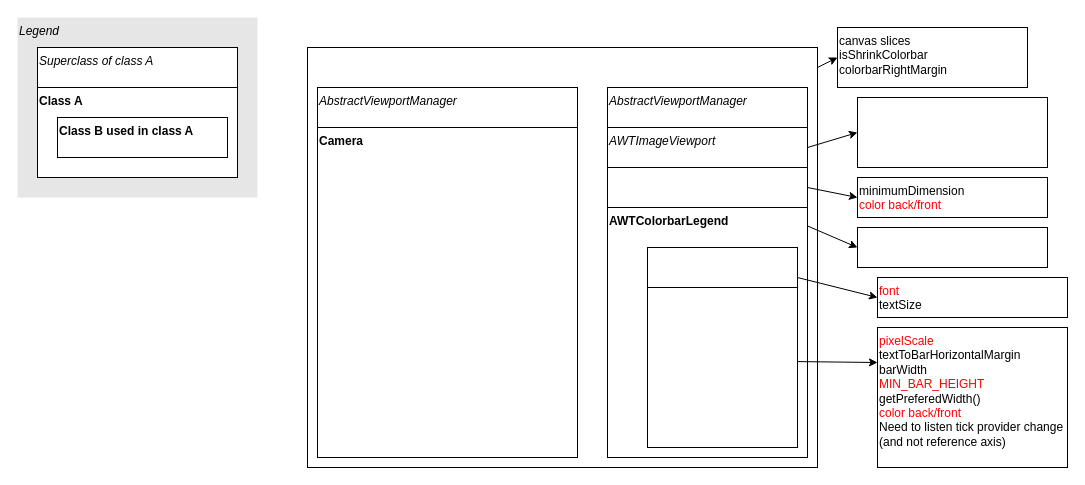
This 1085x485 diagram has some shape labels left out. The box of each missing label's shape, as (x1, y1, x2, y2) in pixels:
askedWidth/Height font: (856, 226, 1048, 268)
AWTColorbarGenerator: (646, 286, 798, 448)
AWTLegend: (606, 166, 808, 208)
height / width margin pixelScale minimumDimension = (0,0): (856, 96, 1048, 168)
ImageGenerator: (646, 246, 798, 288)
ViewAndColorbarLayout: (306, 46, 818, 468)
